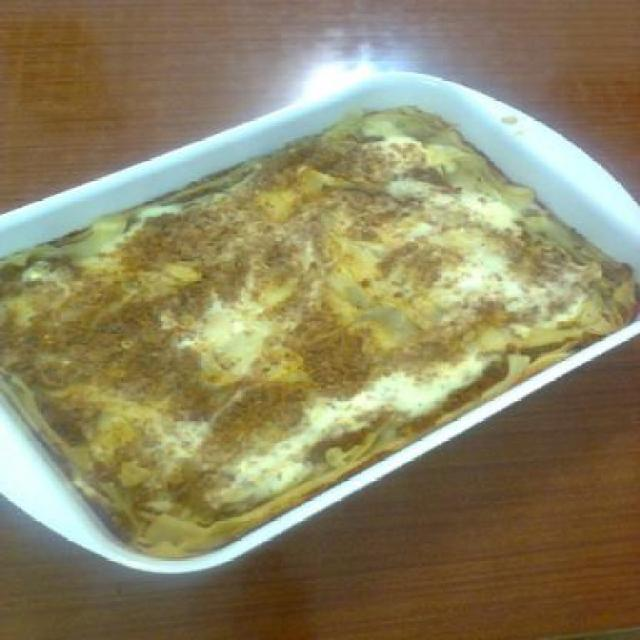Lasagna: (41, 111, 574, 560)
